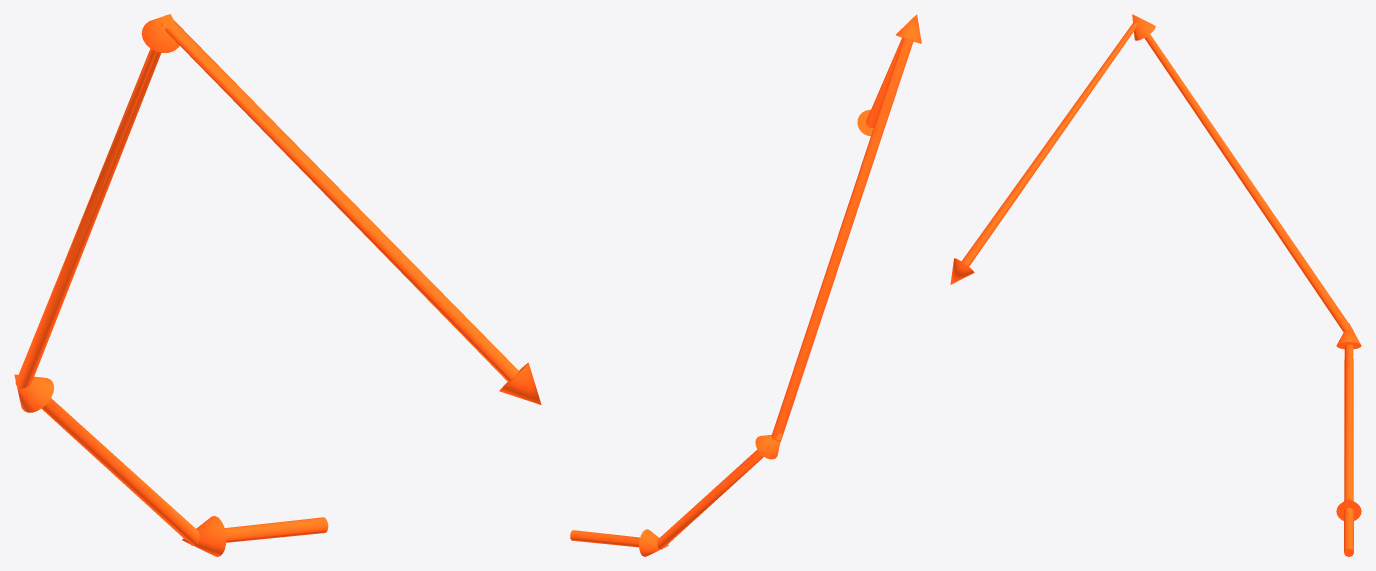
Rendered from m2p_wheel_loader_flow.glb.
3 views of the same model, side by side, from view 1: azimuth 30°, elevation 25°; view 2: azimuth 150°, elevation 25°; view 3: azimuth 270°, elevation 25° (orthographic). The views are drawn at different scales.
Parts seen in each view (by area): view 1: cycle; view 2: cycle; view 3: cycle.
Boxes of the visible parts, box(x1,y1,x2,y2) form: cycle: box(14, 14, 541, 556); cycle: box(570, 14, 921, 556); cycle: box(950, 14, 1361, 556).
Size of the model in its own units: 4.05 by 8.11 by 6.8.
